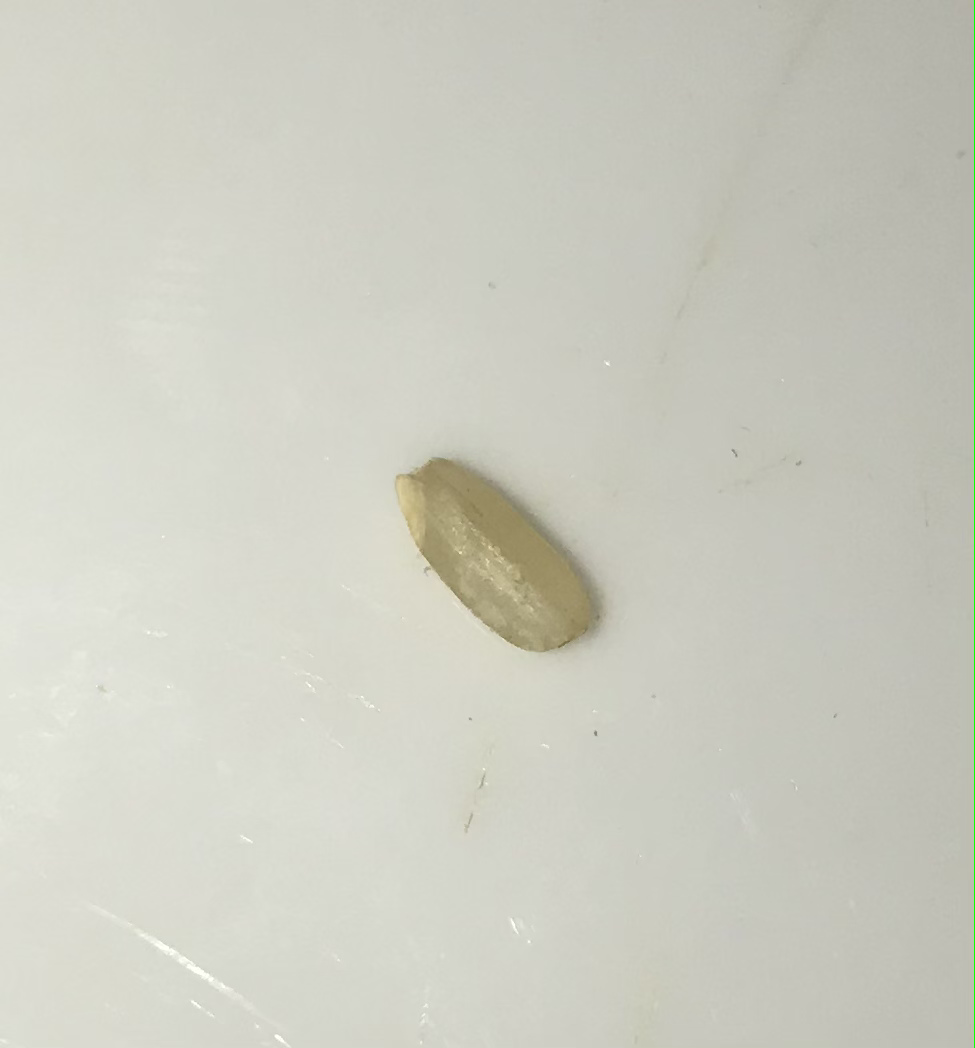Gao Lut Trang: (387, 440, 608, 667)
